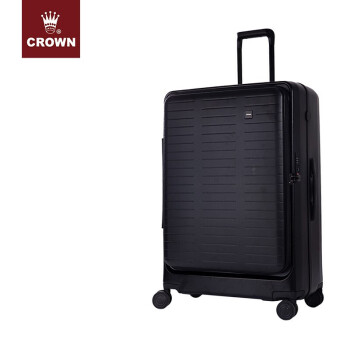box: (163, 82, 322, 302)
wheel: (276, 300, 299, 321), (152, 290, 172, 309), (305, 292, 324, 308)
